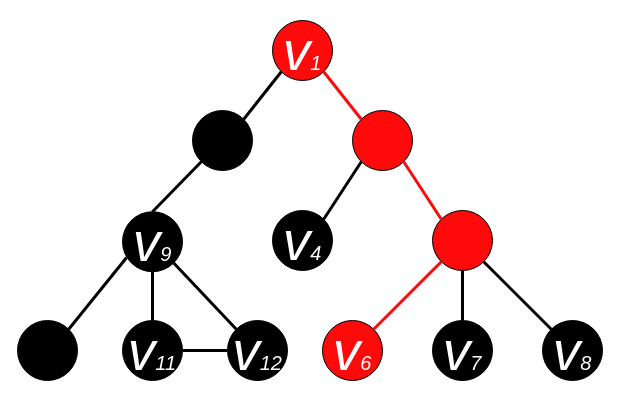
The diagram is 620 pixels wide and 400 high, and some of its shapes have lost their labels. Here are the shapes that lost their labels. From the top down, the box of each, then its label:
(192, 110, 252, 170): v 2
(352, 110, 412, 170): v 3
(432, 210, 492, 270): v 5
(16, 320, 78, 380): v 10
